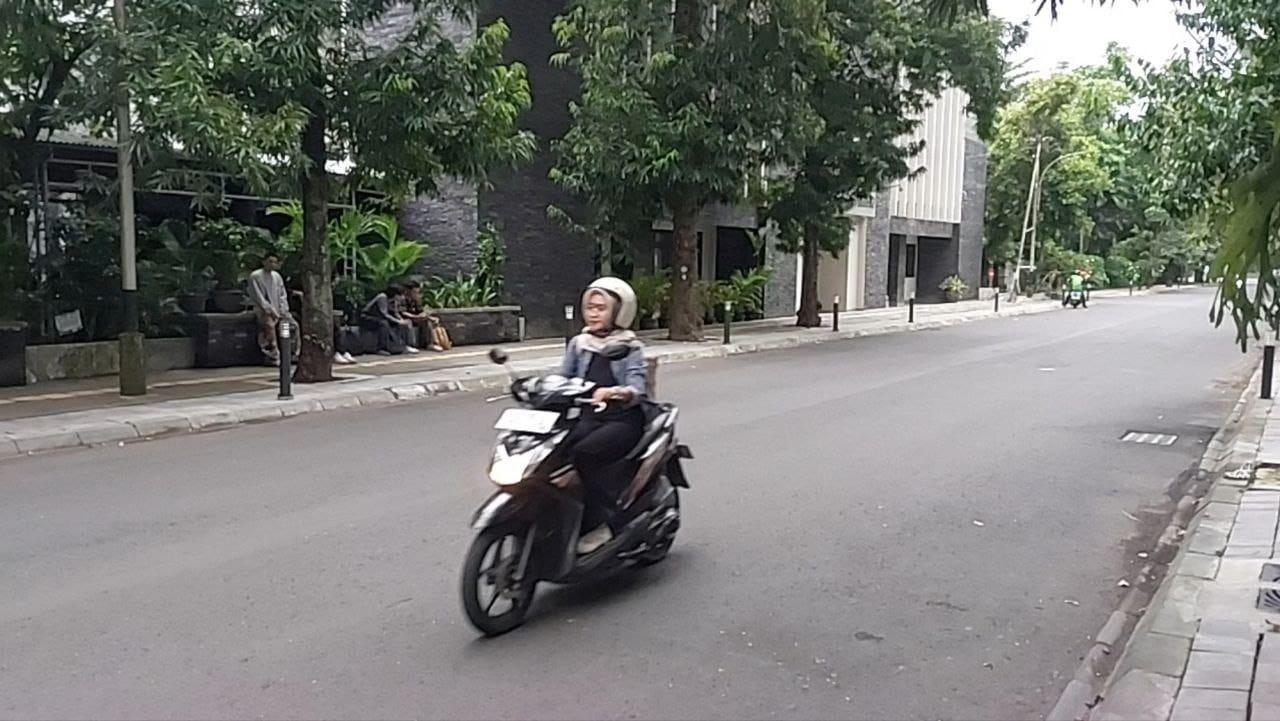helm: (579, 275, 639, 334)
riding: (459, 273, 698, 638)
